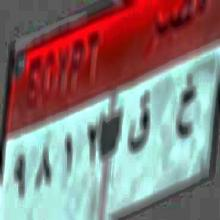1: (61, 134, 75, 180)
2: (86, 118, 98, 164)
8: (32, 146, 52, 194)
9: (10, 149, 28, 200)
khaa: (174, 77, 198, 146)
qaaf: (127, 90, 152, 156)
